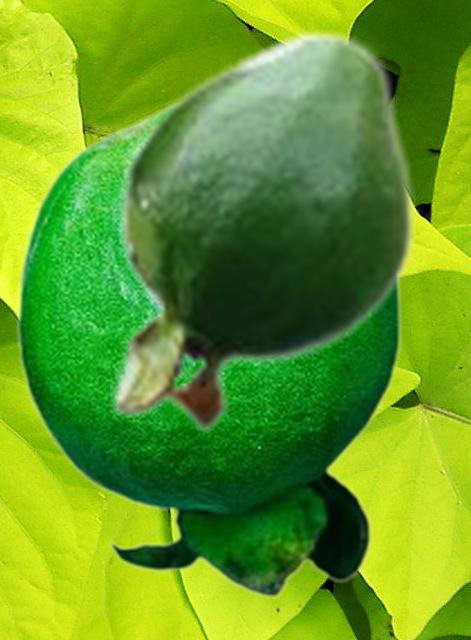guava: (14, 101, 402, 597), (110, 27, 414, 435)
